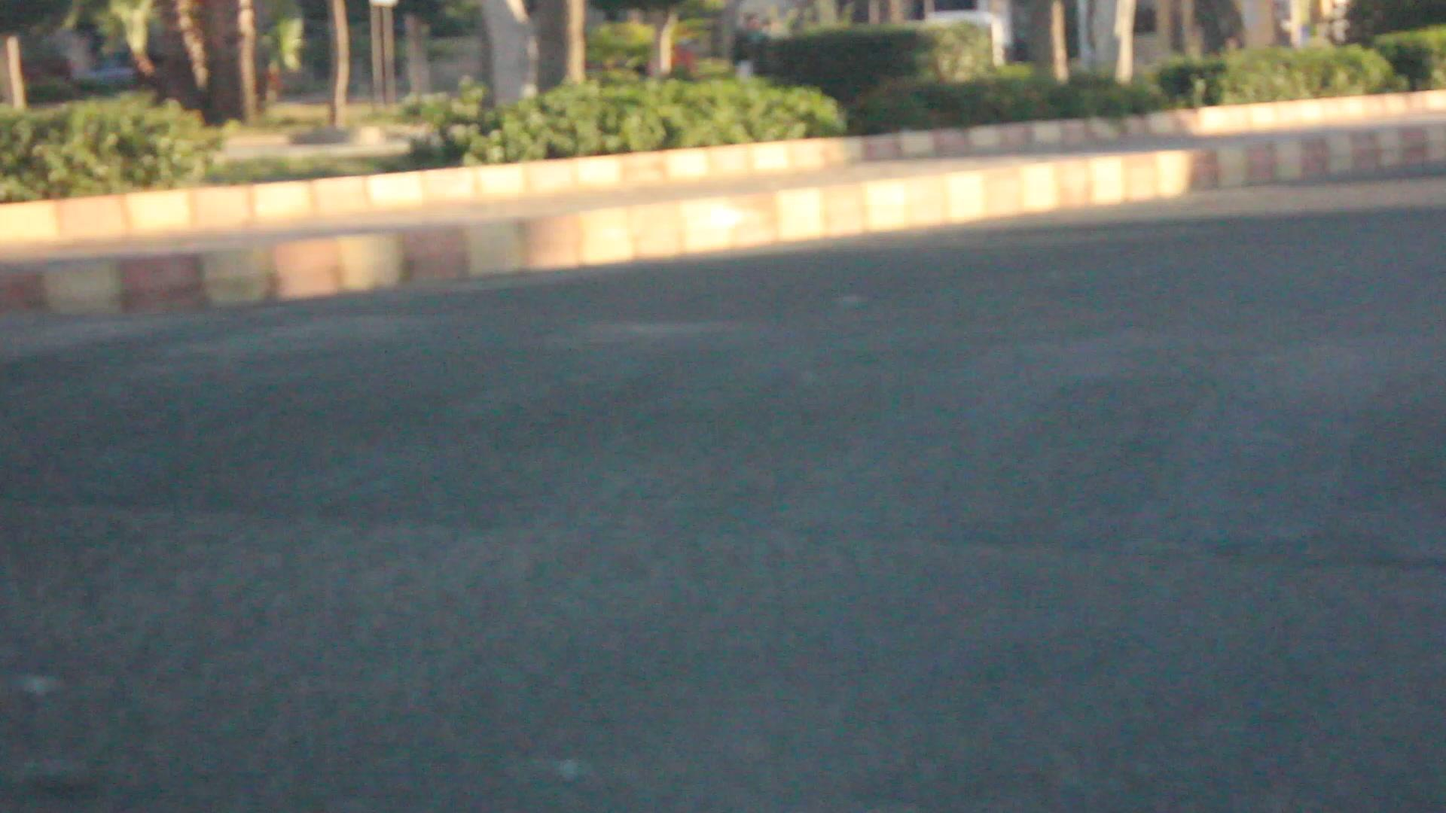Bump: (60, 311, 1446, 572)
